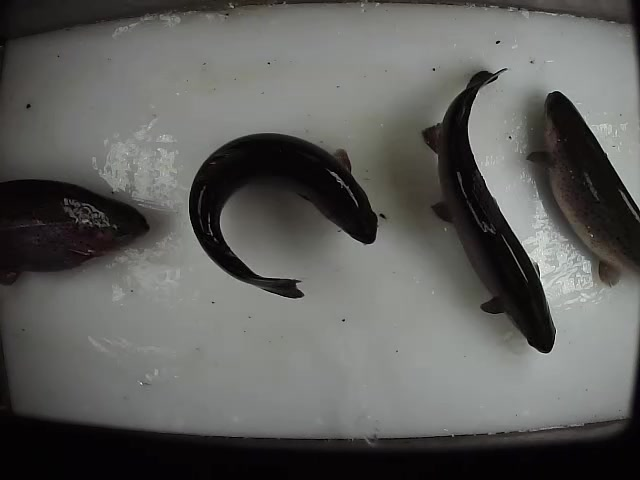fish: (420, 64, 561, 356), (187, 129, 381, 300)
